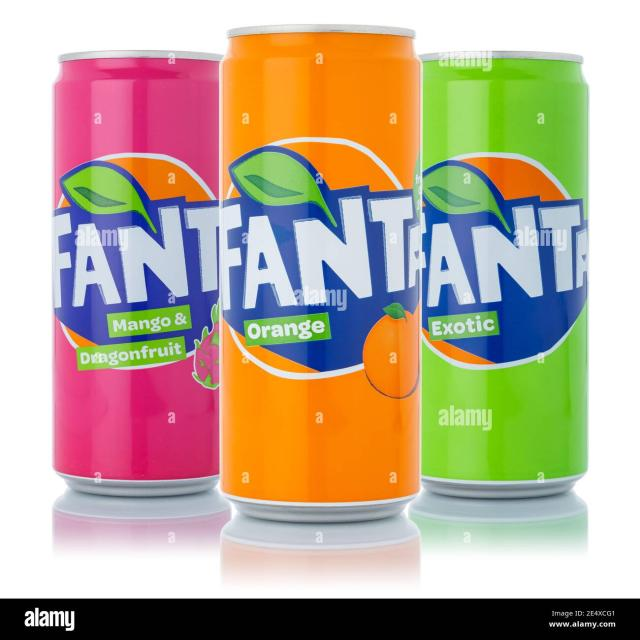fanta: (219, 23, 431, 532)
